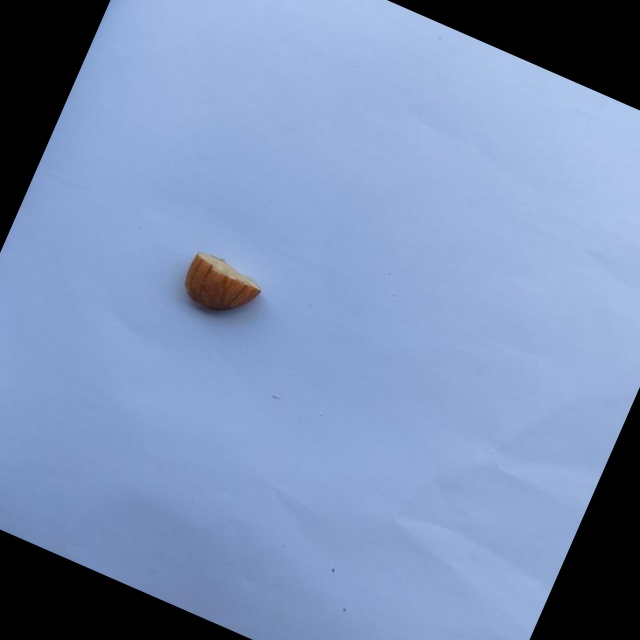grade4: (168, 242, 276, 335)
